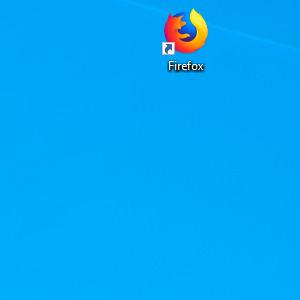firefox: (162, 7, 209, 56)
